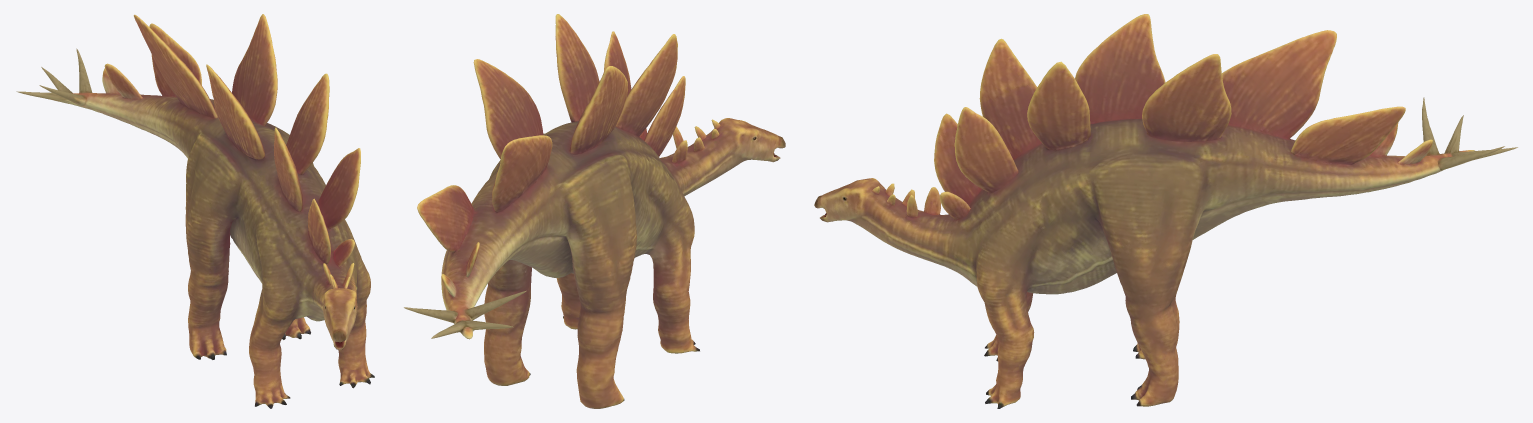
File: MZ4250 - Stegosaurus.glb
3 renders of one model, left to right at view 1: azimuth 30°, elevation 25°; view 2: azimuth 150°, elevation 25°; view 3: azimuth 270°, elevation 25°, orthographic. The views are drawn at different scales.
Visible parts, largest first — view 1: Stegosaurus_low.001; view 2: Stegosaurus_low.001; view 3: Stegosaurus_low.001.
Boxes of the visible parts, box(x1,y1,x2,y2) form: Stegosaurus_low.001: box(16, 14, 374, 408); Stegosaurus_low.001: box(404, 14, 785, 408); Stegosaurus_low.001: box(814, 14, 1517, 408).
Size of the model in its own units: 2.46 by 4.31 by 7.94.
Materials: 1 (1 with a texture image).
